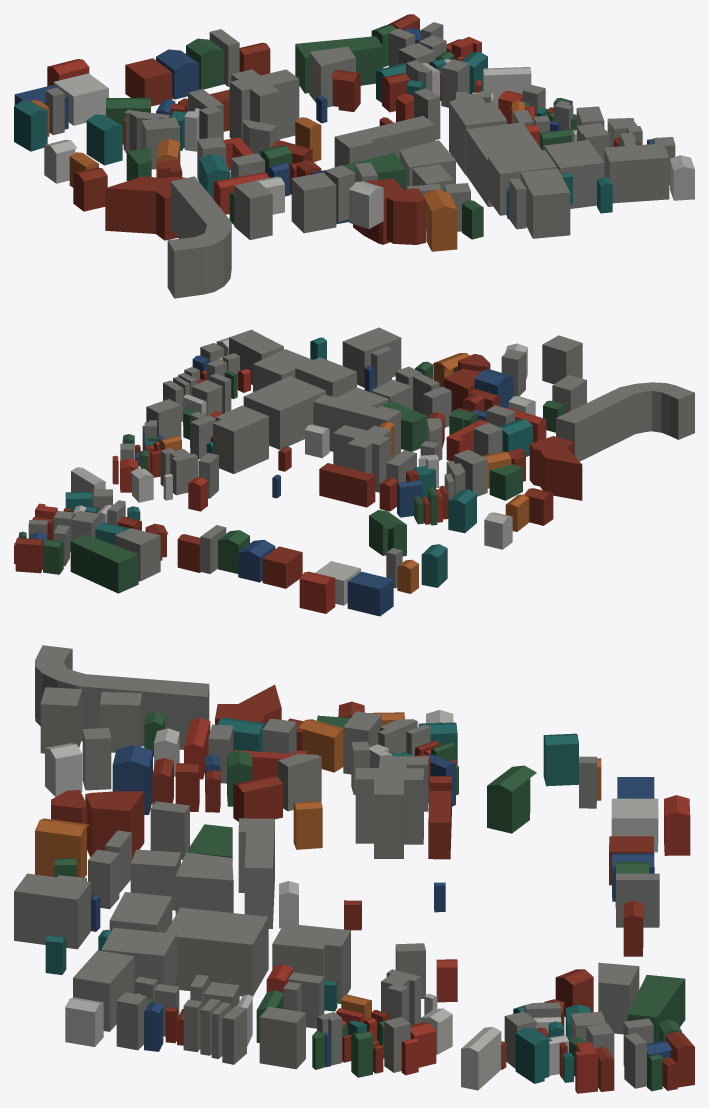
File: near-17-109442-59473.5bfb0b48.glb
3 renders of one model, top to bottom at view 1: azimuth 30°, elevation 25°; view 2: azimuth 150°, elevation 25°; view 3: azimuth 270°, elevation 25°, orthographic. The views are drawn at different scales.
Size of the model in its own units: 331 by 91.44 by 311.
